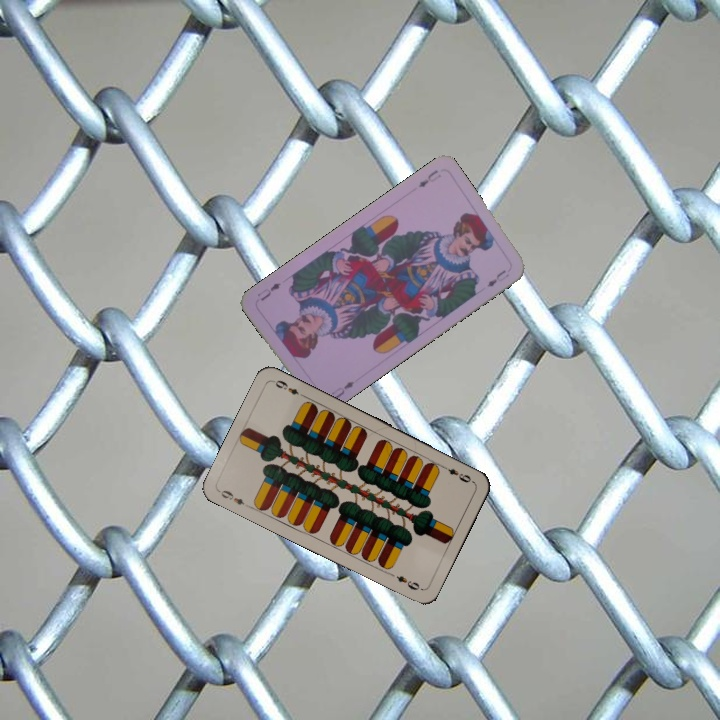E9: (215, 486, 253, 511), (438, 462, 476, 485)
EU: (327, 377, 357, 401), (414, 166, 441, 190)
